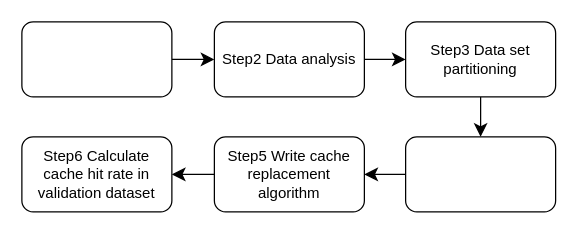
Some shapes in this 578 by 234 pixel diagram are drawn without their labels. The shapes that lost their labels are listed below. From the top down, each one's centre as x and y in pixels, then its label:
At [96,59]: "Step1 Data set processing".
At [480,174]: "Step4 Calculate weight factors using linear regression model".
